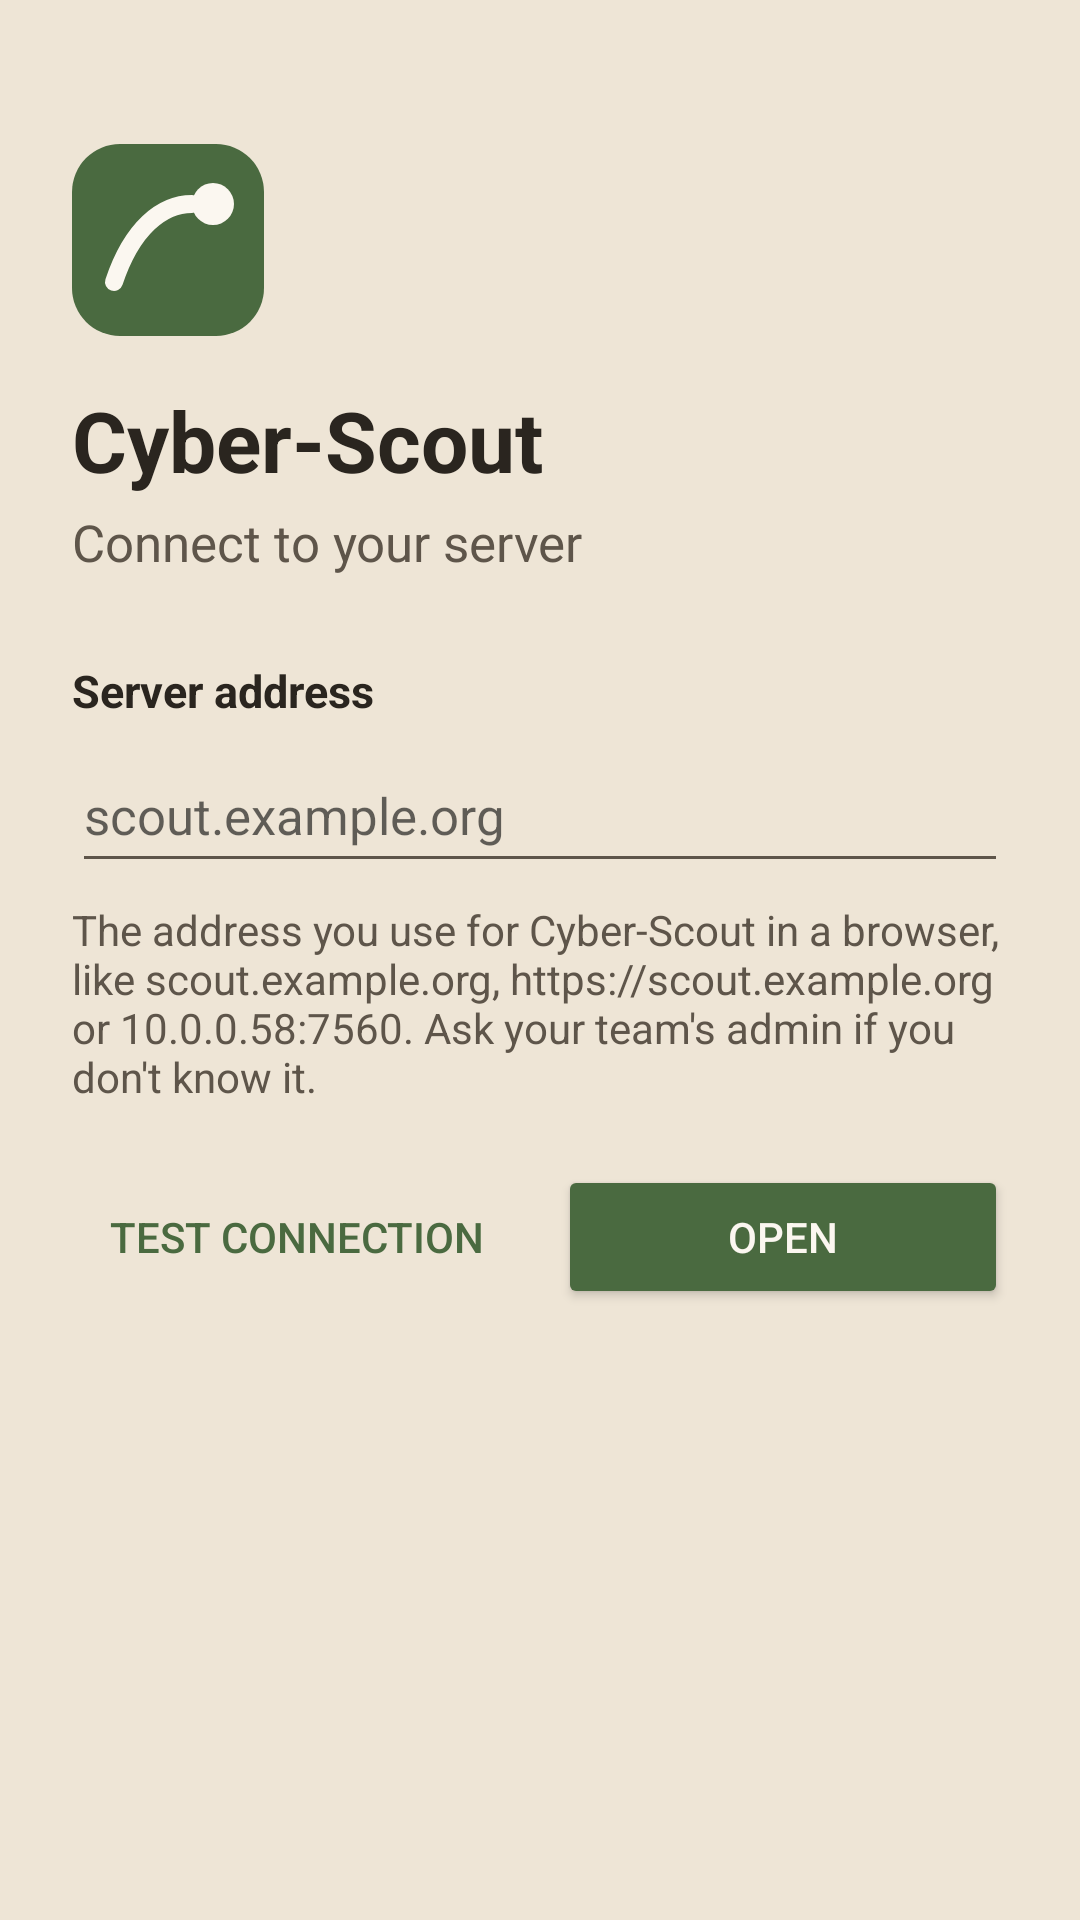

Where to tap for icons on this 1080 × 1920 app screen, as [x,y]:
brand: [168,240]
